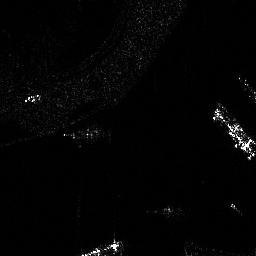ship: (212, 106, 255, 158)
